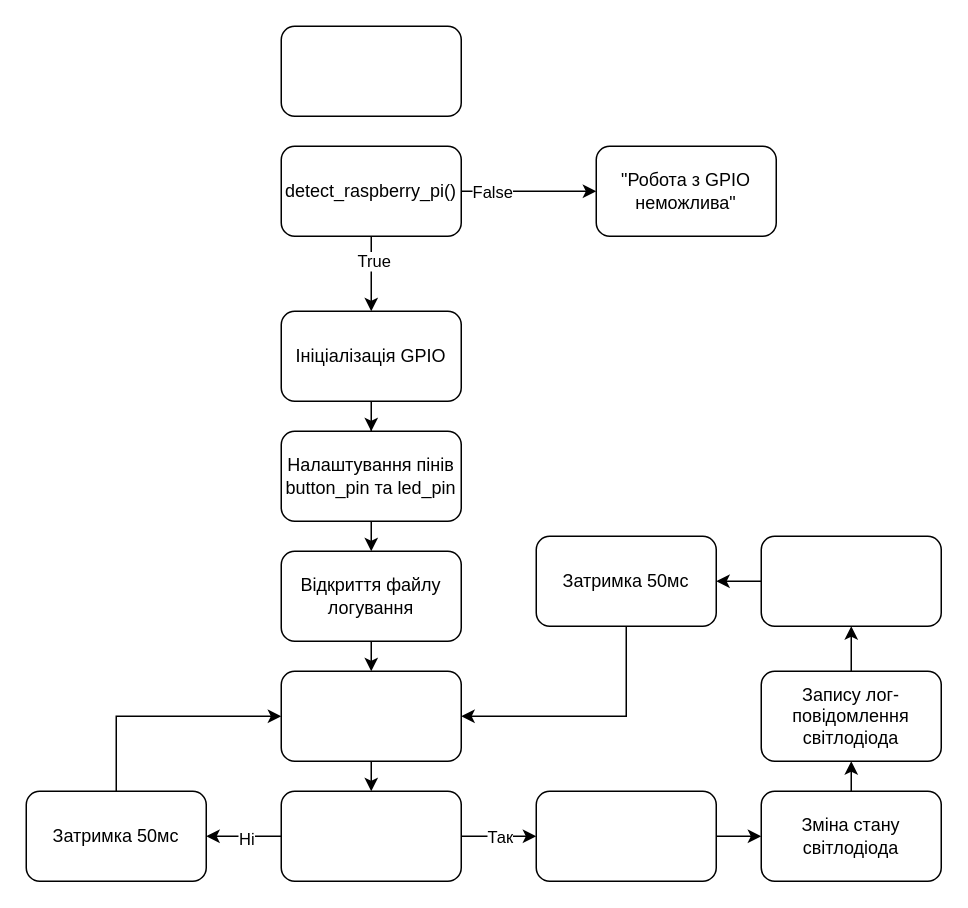
Some shapes in this 968 by 908 pixel diagram are drawn without their labels. The centre of each missing label's shape, as x and y in pixels:
"main()" goes at point 370,70.
"Запису лог-повідомлення кнопки" goes at point 625,835.
"Кнопка настиснута?" goes at point 370,835.
"Очікування відпускання кнопки" goes at point 850,580.
"Читання стану кнопки" goes at point 370,715.
